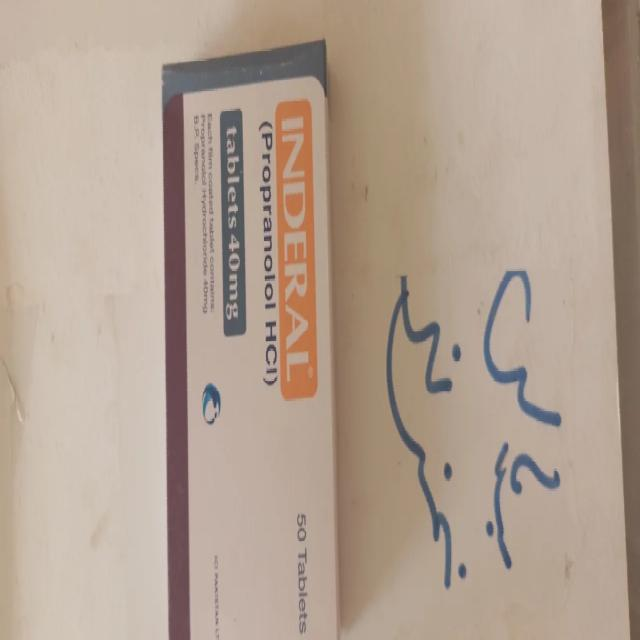drug-name: (281, 103, 318, 386)
